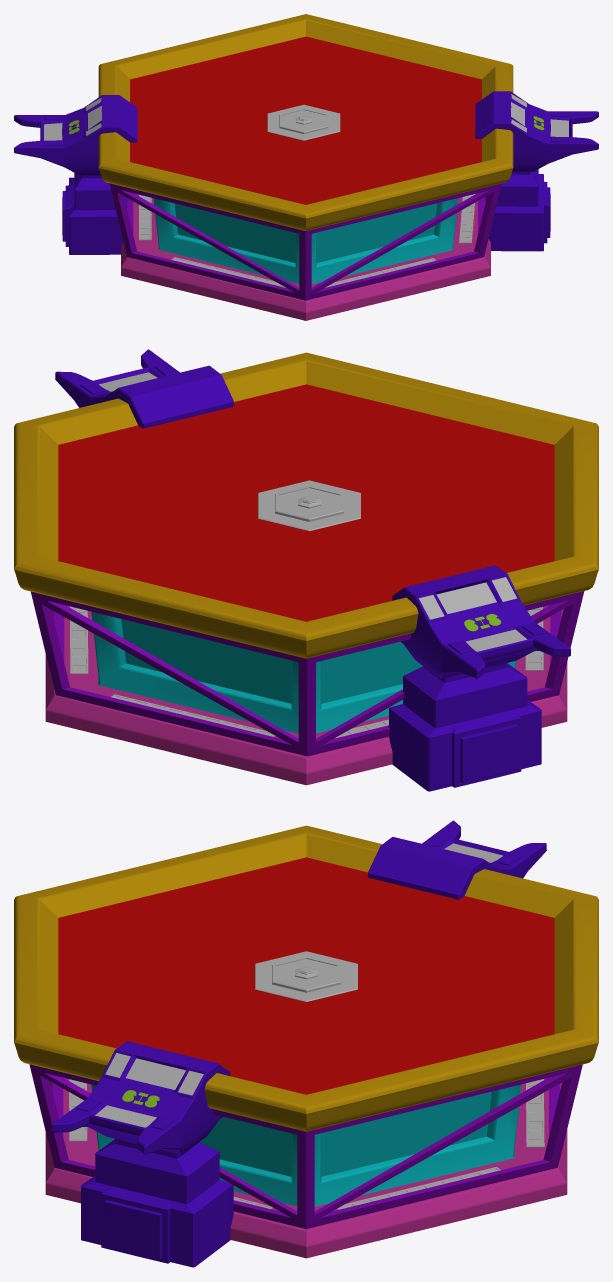
File: MESACENTRALBAJAPOLIGONAL_UVS ORGANIZADOS.fbx
3 renders of one model, top to bottom at view 1: azimuth 30°, elevation 25°; view 2: azimuth 150°, elevation 25°; view 3: azimuth 270°, elevation 25°, orthographic. The views are drawn at different scales.
Parts seen in each view (by area): view 1: polySurface2, polySurface1, reja, pCube16, pCube8, pCylinder1, Lampara3, Lampara1, Lampara, Lampara2; view 2: polySurface2, pCube8, polySurface1, reja, pCube16, pCylinder1, Lampara4, Lampara5; view 3: polySurface2, pCube16, polySurface1, reja, pCube8, pCylinder1, Lampara5, Lampara4.
Part boxes in pixels (x1,y1,x2,y2): polySurface2: (98,14,513,320); polySurface1: (153,198,458,284); reja: (109,183,501,300); pCube16: (475,91,598,251); pCube8: (14,95,137,254); pCylinder1: (267,104,340,140); Lampara3: (459,194,475,243); Lampara1: (171,257,285,287); Lampara: (139,194,151,240); Lampara2: (325,258,436,287); polySurface2: (14,352,598,785); pCube8: (389,565,570,791); polySurface1: (91,611,516,733); reja: (31,591,584,756); pCube16: (55,349,233,428); pCylinder1: (258,480,360,531); Lampara4: (69,606,88,673); Lampara5: (111,694,275,736); polySurface2: (14,825,598,1258); pCube16: (51,1041,233,1267); polySurface1: (91,1084,521,1206); reja: (29,1064,582,1229); pCube8: (368,820,546,899); pCylinder1: (255,951,357,1001); Lampara5: (526,1079,544,1147); Lampara4: (337,1167,500,1209).
Size of the model in its own units: 364 by 91.42 by 276.
